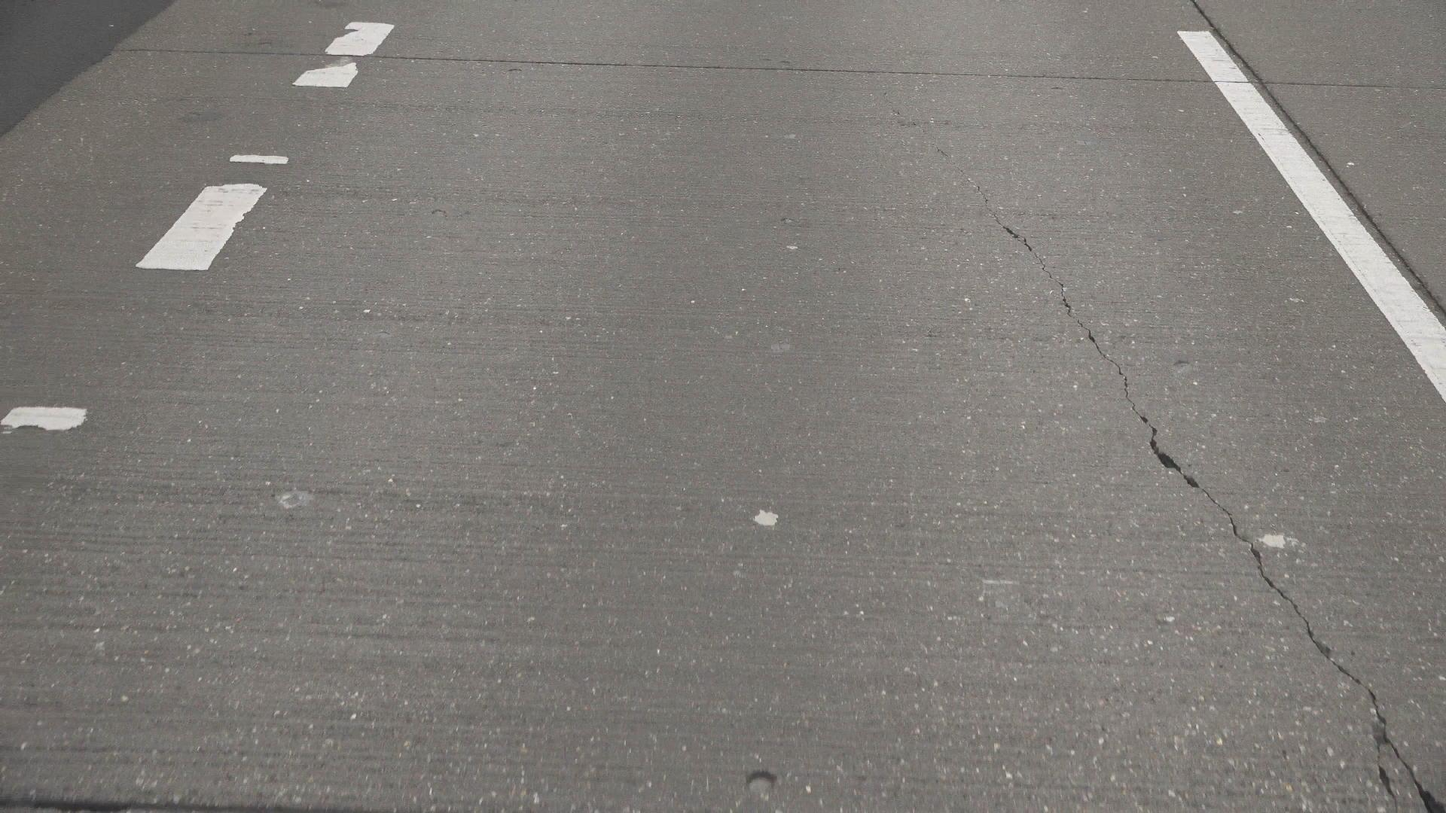GRIETA: (969, 180, 1444, 811), (1191, 0, 1445, 320), (396, 56, 1192, 81), (1266, 82, 1445, 90)
